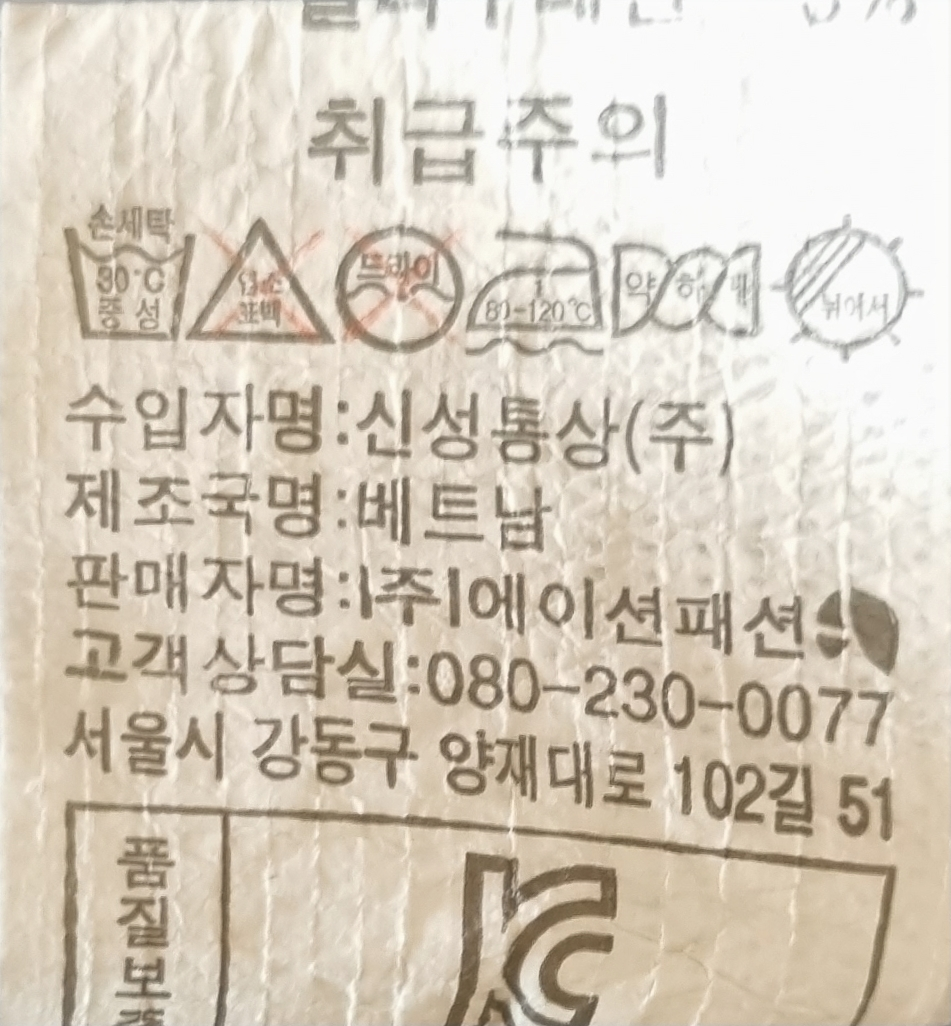KR_flat_dry_in_shade: (773, 212, 918, 372)
KR_gentle_wring: (612, 225, 766, 358)
KR_hand_wash_30_neutral: (56, 192, 194, 353)
KR_iron_low_temp_with_cloth: (464, 216, 605, 361)
KR_no_chlorine_bleach: (192, 207, 330, 360)
KR_no_dry_clean: (337, 210, 464, 360)
